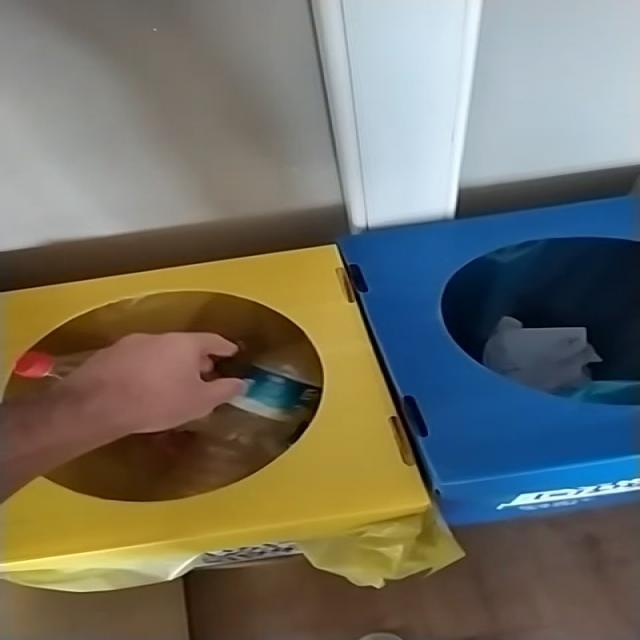Plastic: (4, 292, 321, 502)
